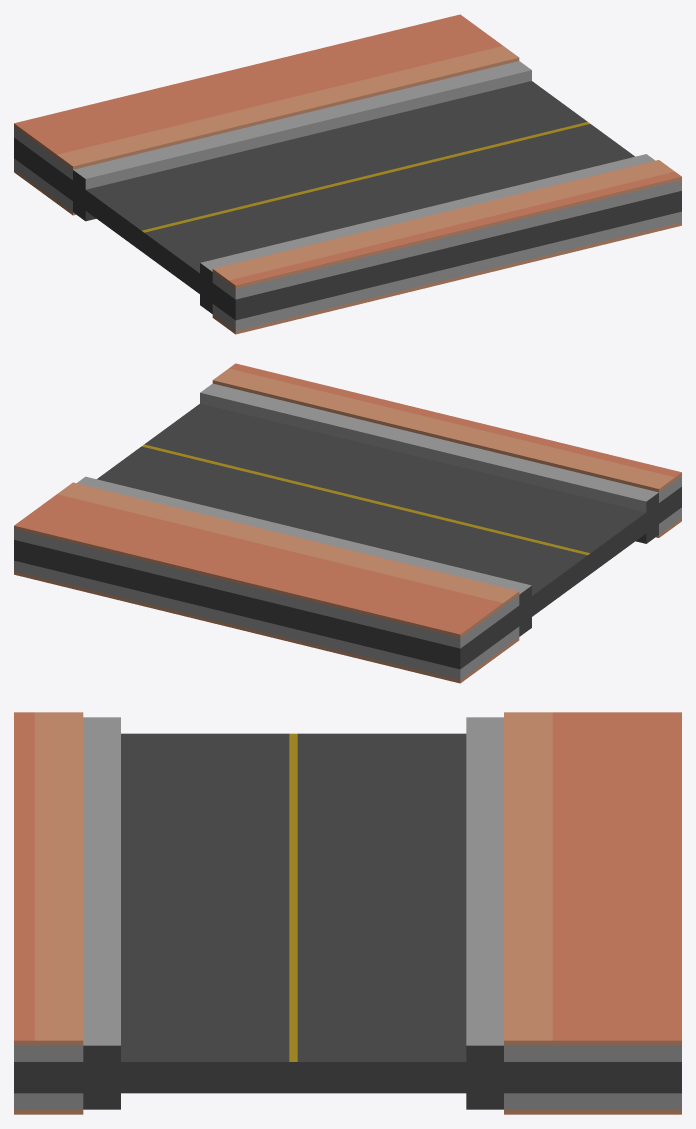
The model's file is Road 3.fbx.
The picture shows the model from 3 angles, top to bottom: view 1: azimuth 30°, elevation 25°; view 2: azimuth 150°, elevation 25°; view 3: azimuth 270°, elevation 25°; orthographic projection. The views are drawn at different scales.
Parts seen in each view (by area): view 1: Road 3; view 2: Road 3; view 3: Road 3.
Boxes of the visible parts, box(x1,y1,x2,y2) form: Road 3: box(14, 14, 681, 334); Road 3: box(14, 363, 681, 683); Road 3: box(14, 712, 681, 1114).
Size of the model in its own units: 12.36 by 10.63 by 1.3.
